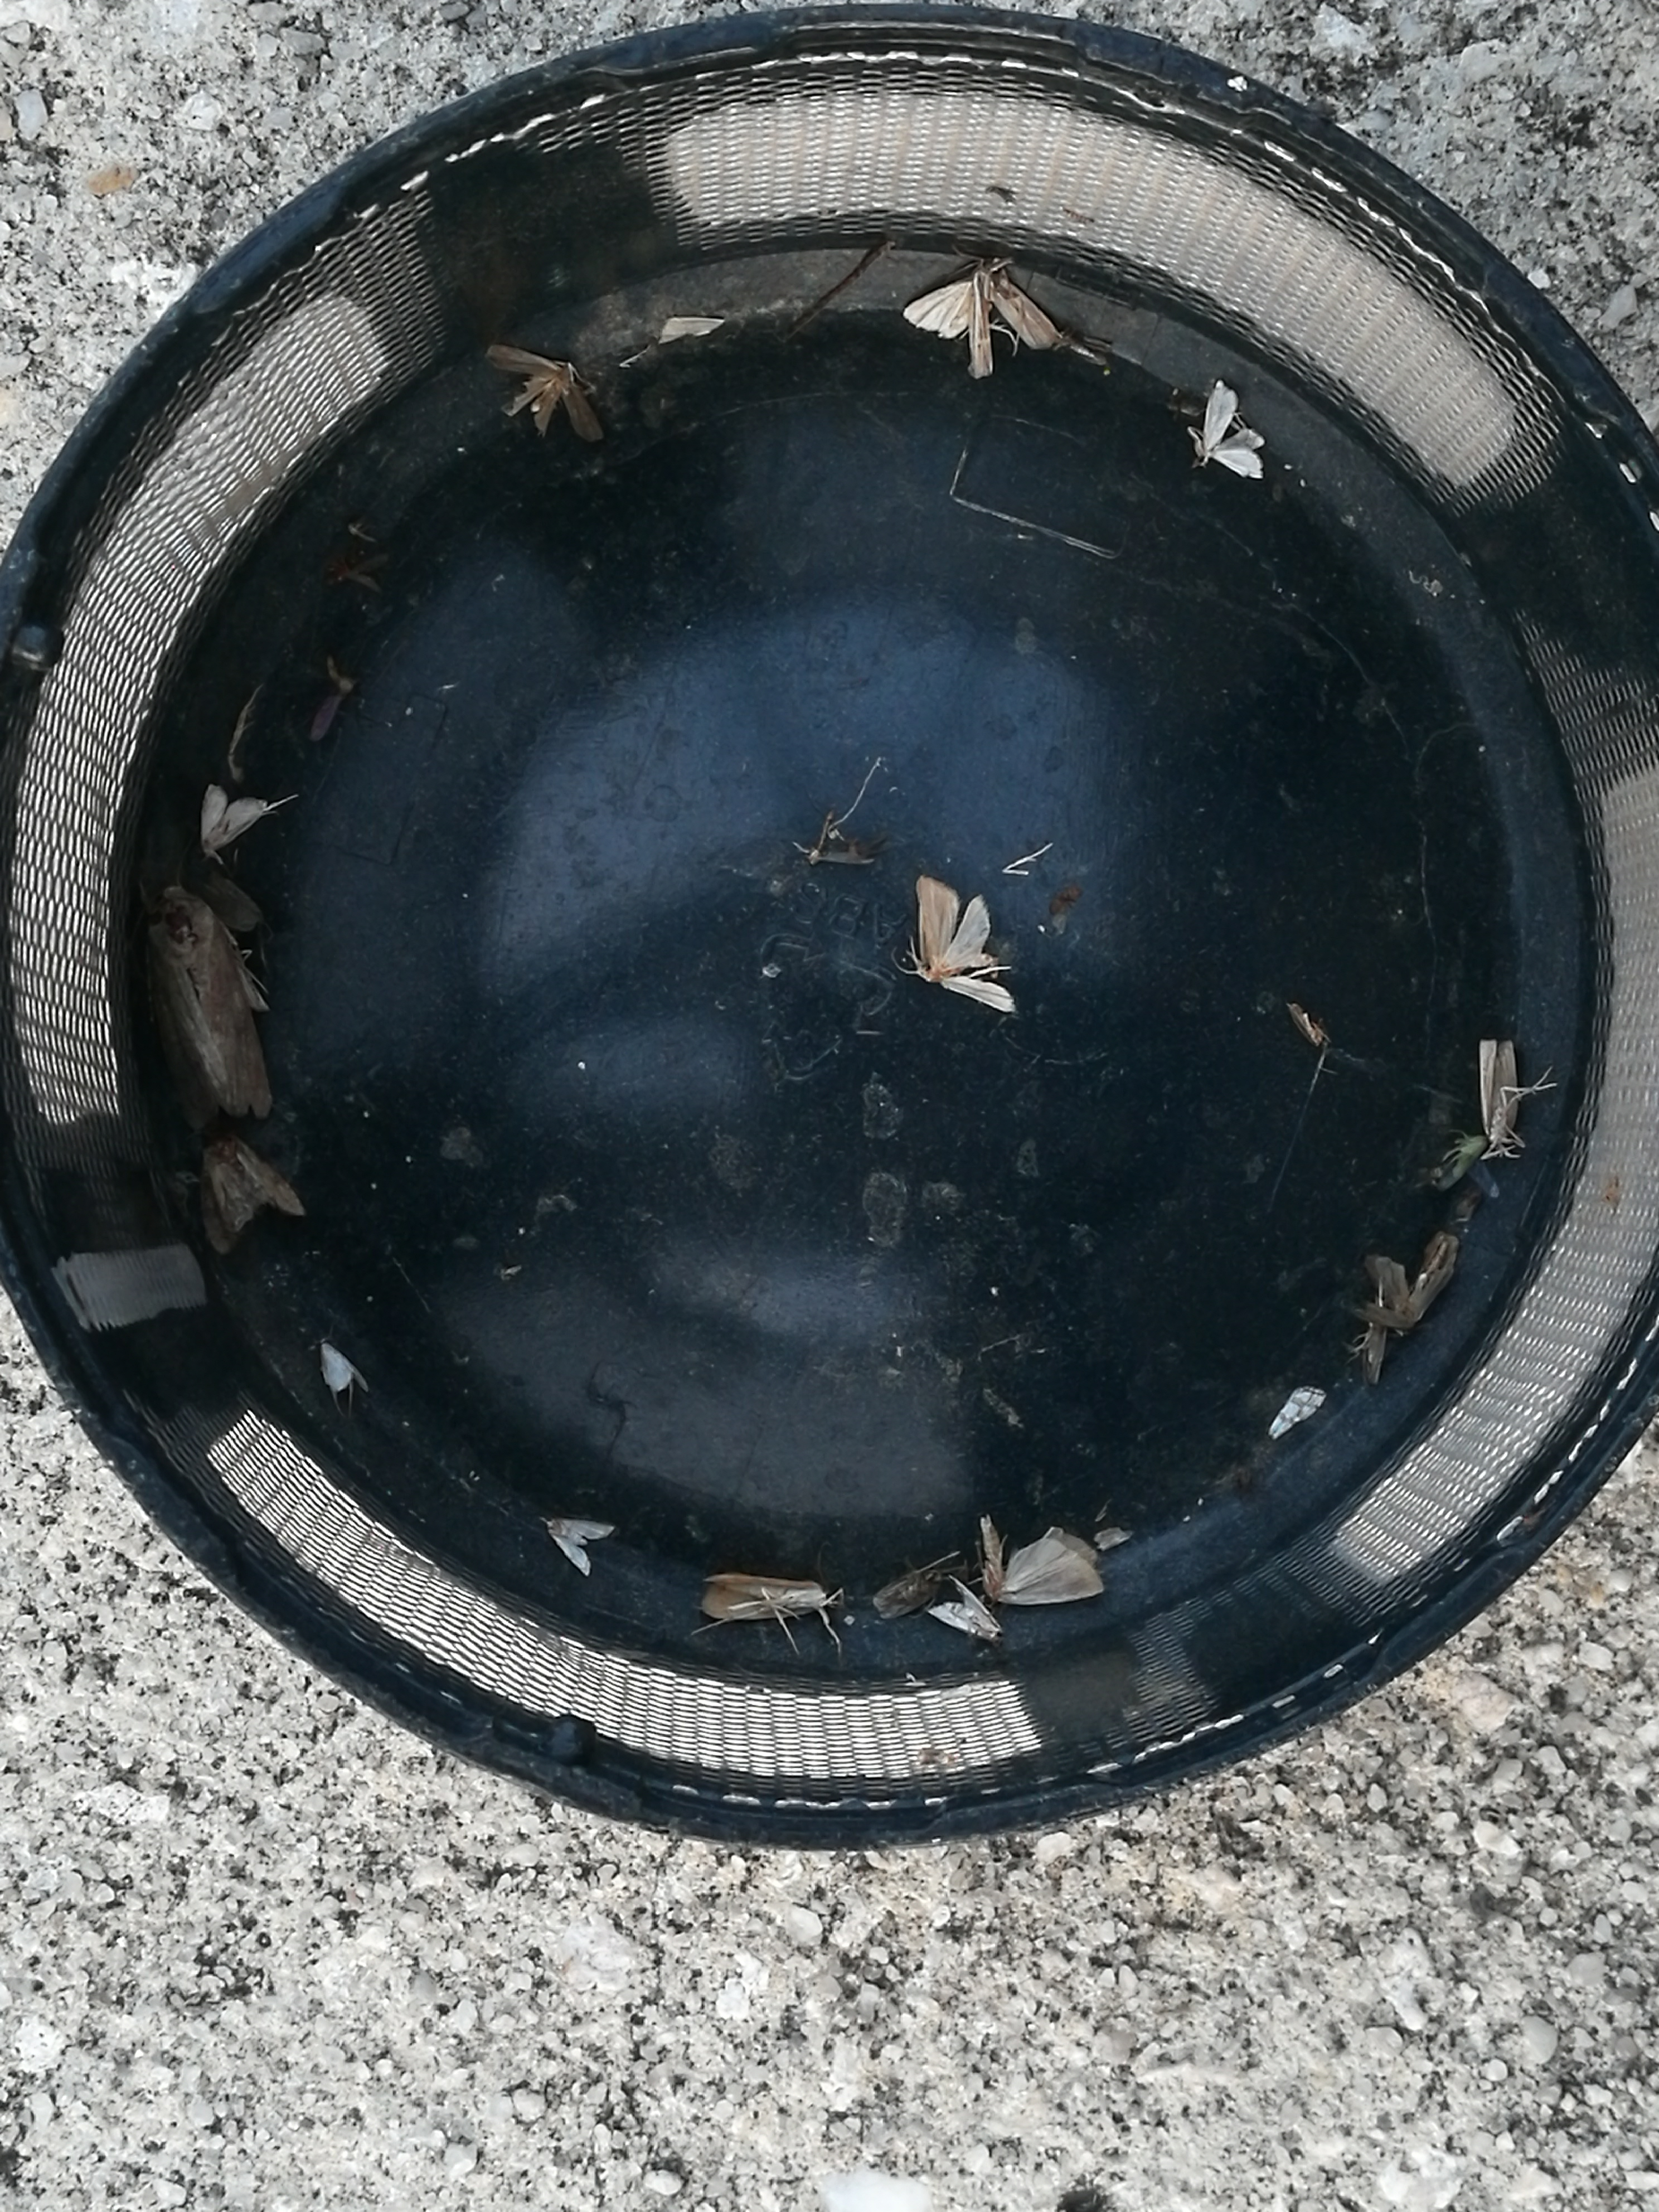mosquito: (701, 1575, 826, 1620), (1358, 1299, 1385, 1385)
moth: (150, 885, 267, 1127), (908, 265, 1058, 380), (917, 878, 1016, 1015), (206, 1136, 307, 1251), (486, 345, 603, 442), (1351, 1231, 1459, 1332), (983, 1517, 1103, 1602), (1188, 380, 1263, 479), (200, 782, 267, 853), (934, 1580, 1006, 1642), (1480, 1036, 1518, 1139), (545, 1517, 612, 1569), (321, 1338, 369, 1392)
